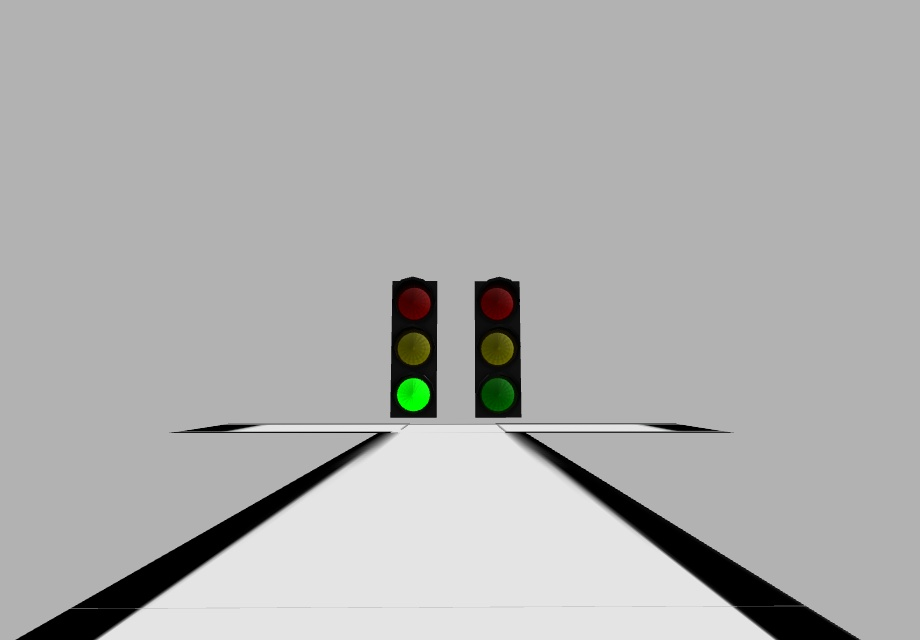green_off: (476, 376, 515, 413)
green_on: (394, 376, 435, 415)
